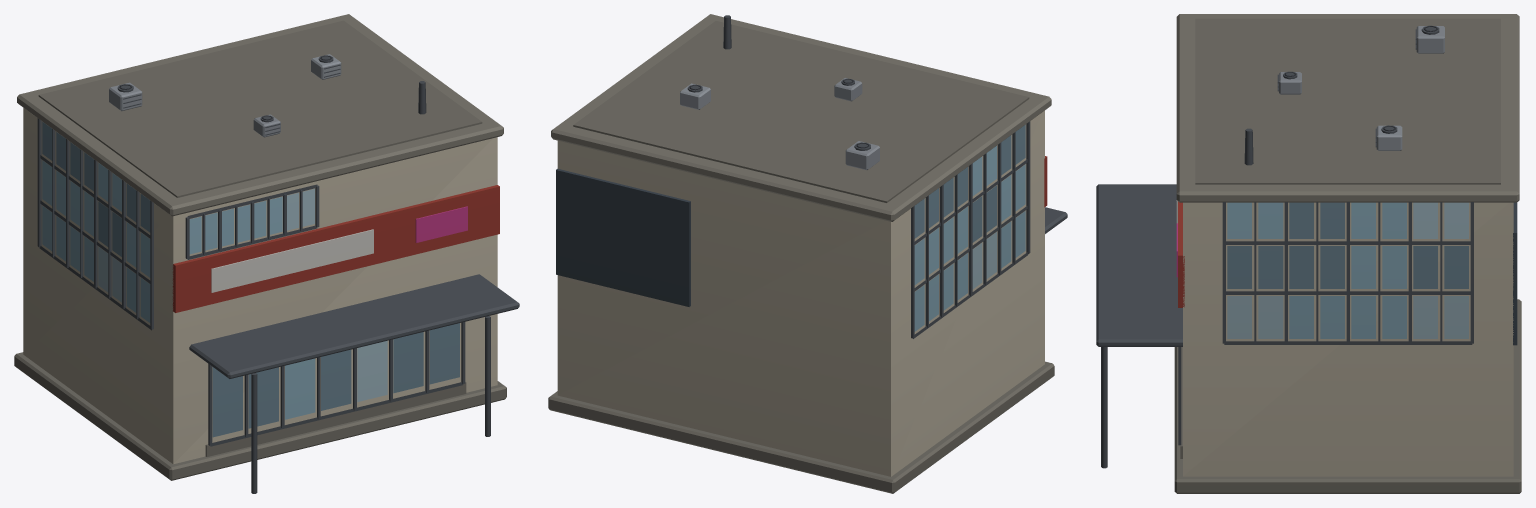
The model's file is mall_block_01.glb.
3 renders of one model, left to right at view 1: azimuth 30°, elevation 25°; view 2: azimuth 150°, elevation 25°; view 3: azimuth 270°, elevation 25°, orthographic. The views are drawn at different scales.
Visible parts, largest first — view 1: mall_block_01; view 2: mall_block_01; view 3: mall_block_01.
Part boxes in pixels (left/top/right/bottom): mall_block_01: left=14, top=14, right=519, bottom=493; mall_block_01: left=548, top=14, right=1067, bottom=493; mall_block_01: left=1096, top=14, right=1521, bottom=493.
Size of the model in its own units: 10.4 by 9 by 10.3.
